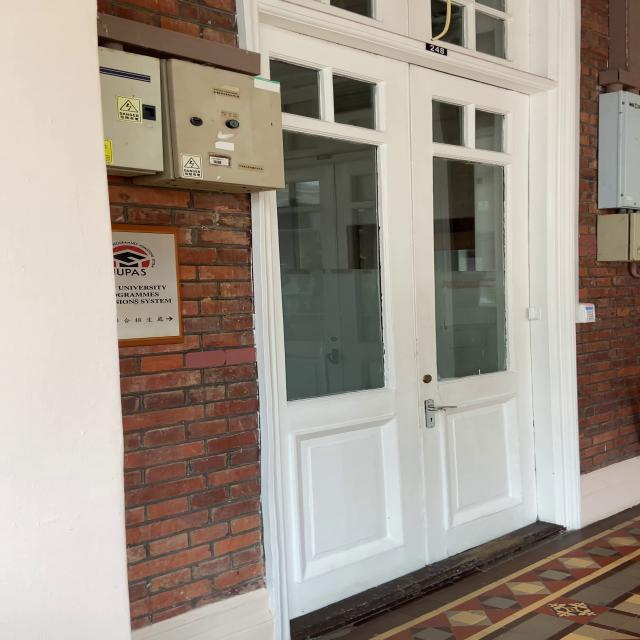room248: (422, 39, 452, 58)
